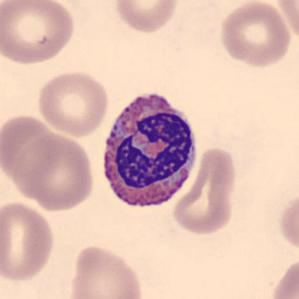Eosinophil: (94, 83, 202, 218)
RBC: (11, 130, 96, 212), (170, 144, 240, 237), (34, 68, 110, 138), (217, 0, 293, 68), (0, 0, 77, 67), (0, 115, 64, 191), (0, 200, 57, 284), (66, 243, 146, 299), (111, 0, 181, 35), (268, 253, 298, 299), (278, 189, 298, 257), (274, 0, 298, 43)
